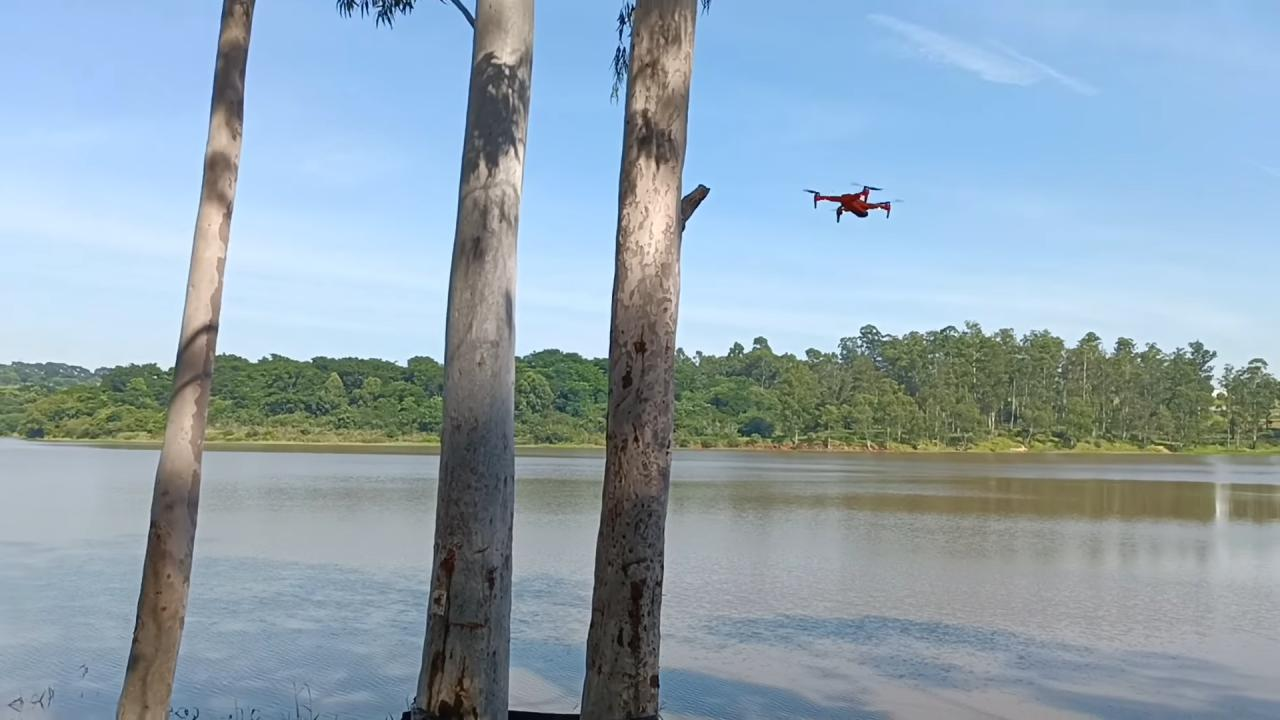Drone: (788, 175, 908, 234)
